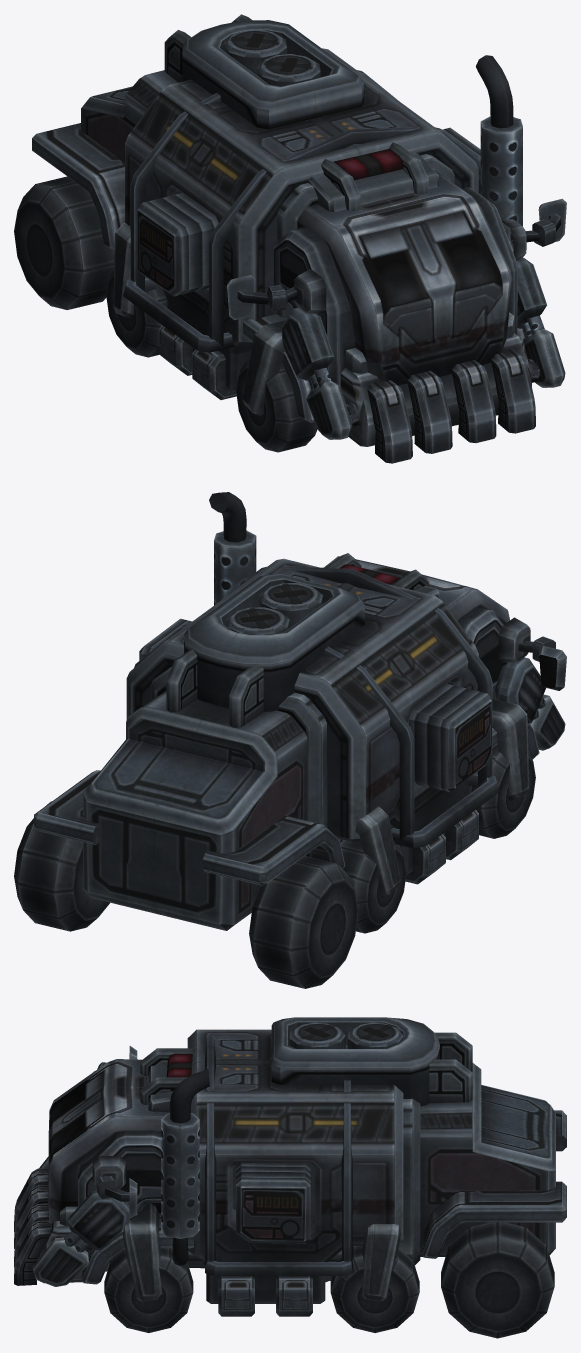
File: truck-utility.glb
The picture shows the model from 3 angles, top to bottom: view 1: azimuth 30°, elevation 25°; view 2: azimuth 150°, elevation 25°; view 3: azimuth 270°, elevation 25°; orthographic projection. The views are drawn at different scales.
Parts seen in each view (by area): view 1: Mesh; view 2: Mesh; view 3: Mesh.
Boxes of the visible parts, bbox=[...] form: Mesh: bbox=[14, 14, 566, 463]; Mesh: bbox=[14, 492, 566, 988]; Mesh: bbox=[14, 1017, 566, 1338].
Bounding box in the file's own units: 2.91 × 2.52 × 4.7.
1 material, 1 textured.
